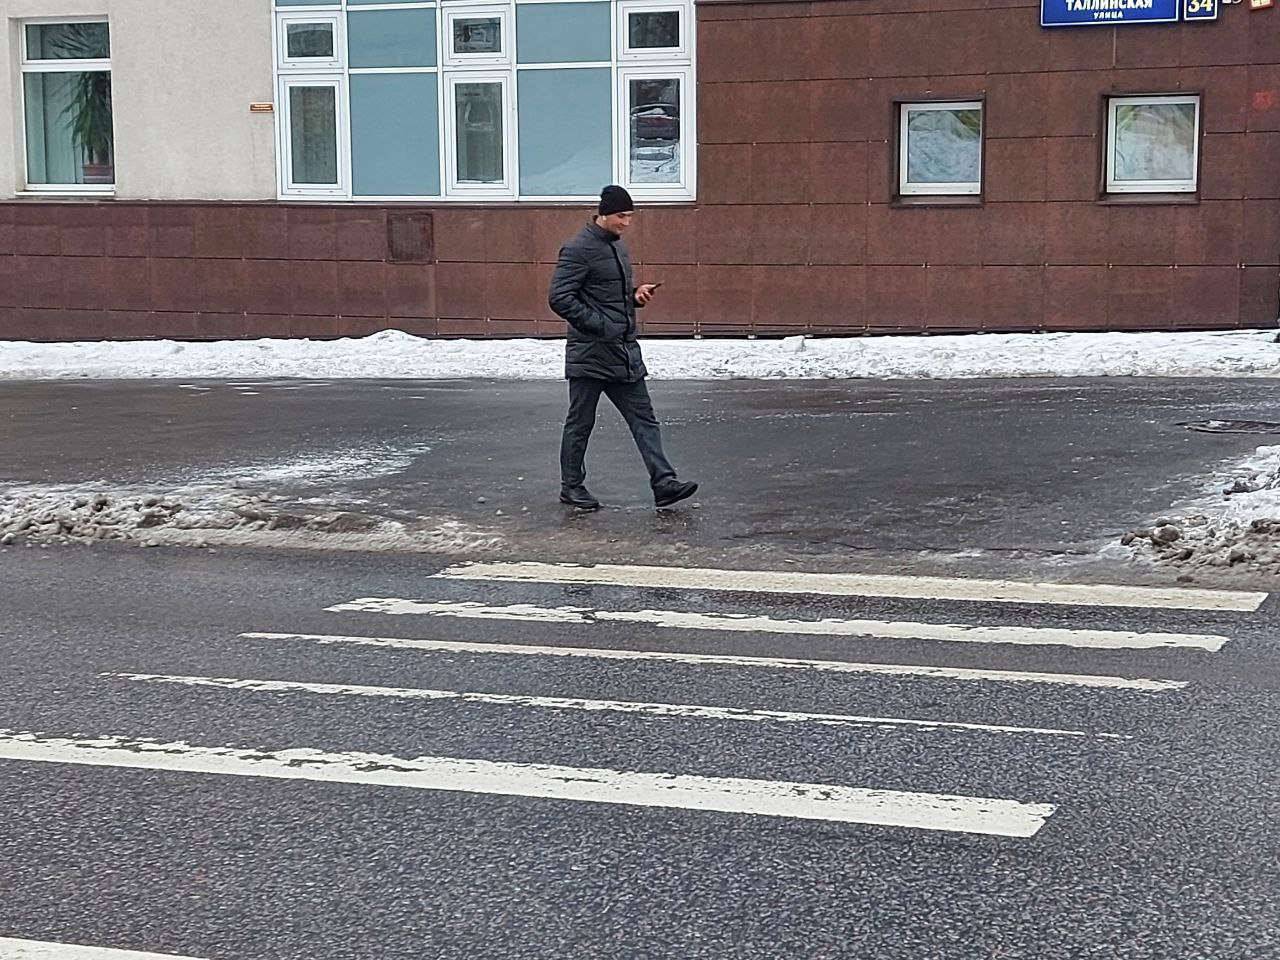sombie: (515, 168, 714, 530)
